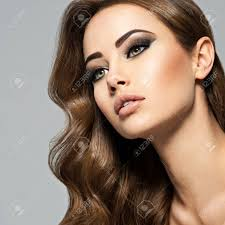white_female: (84, 21, 186, 137)
